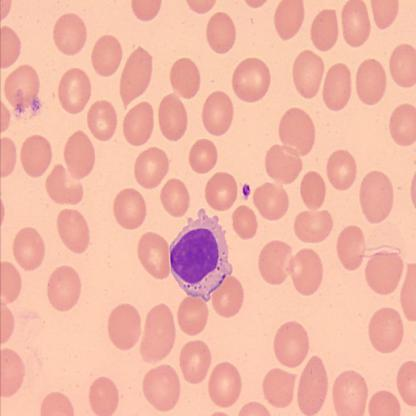Atypical lymphocyte: (171, 206, 236, 298)
